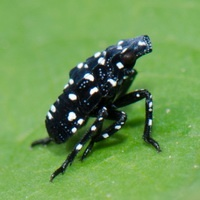insect: (32, 35, 160, 180)
